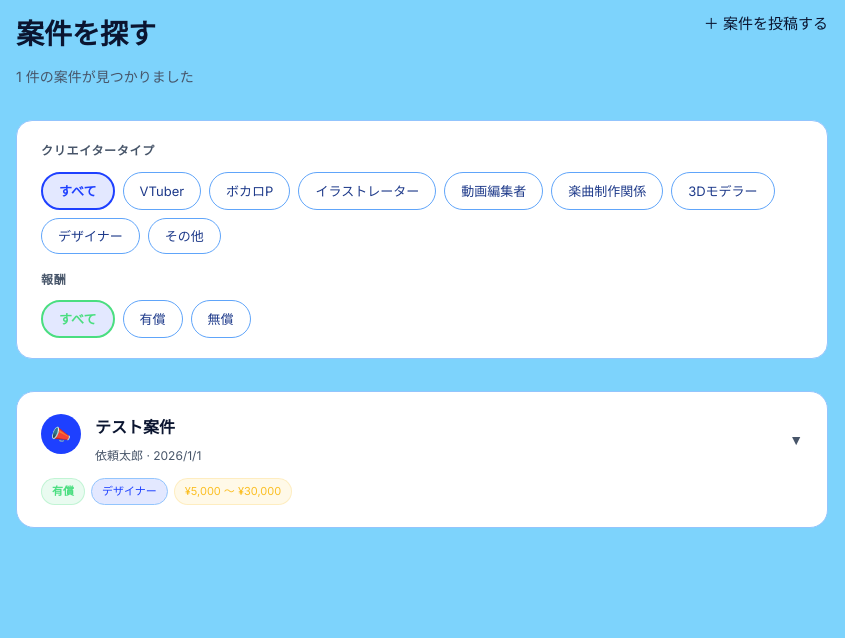
Scenario: JobListingsClient › [edge] フィルター適用後に0件になっても空状態が表示される
// 無償フィルターを押すと有償のデザイナー案件は消える
Click the button "無償" at (221, 319), box [191,300,251,338]
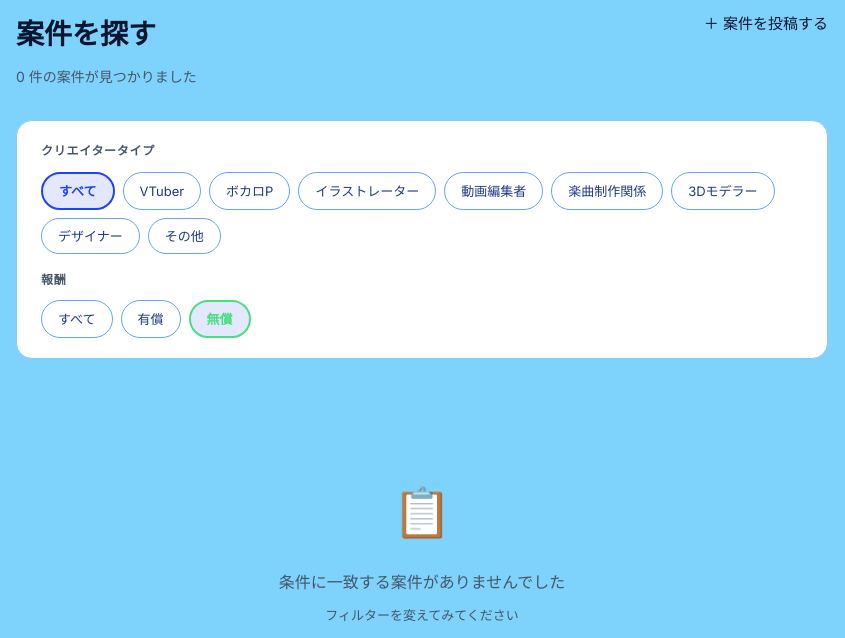
Check: the text "条件に一致する案件がありませんでした" is shown, box [279,572,565,592]
